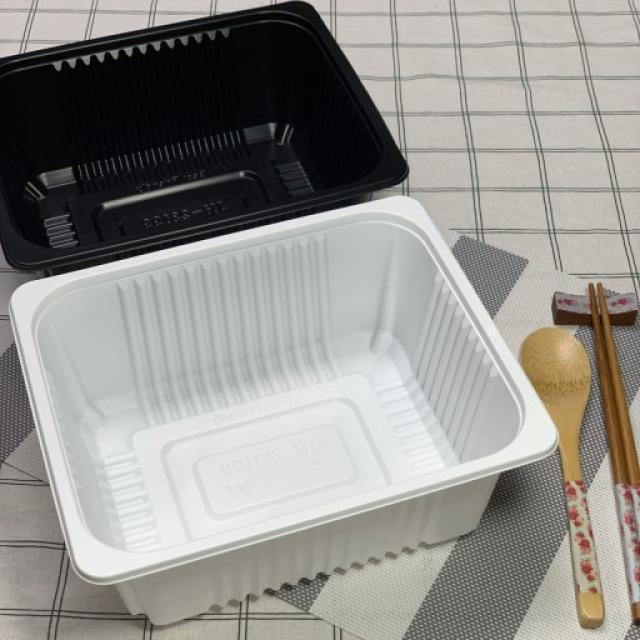disposable: (0, 183, 609, 620), (0, 0, 460, 280)
